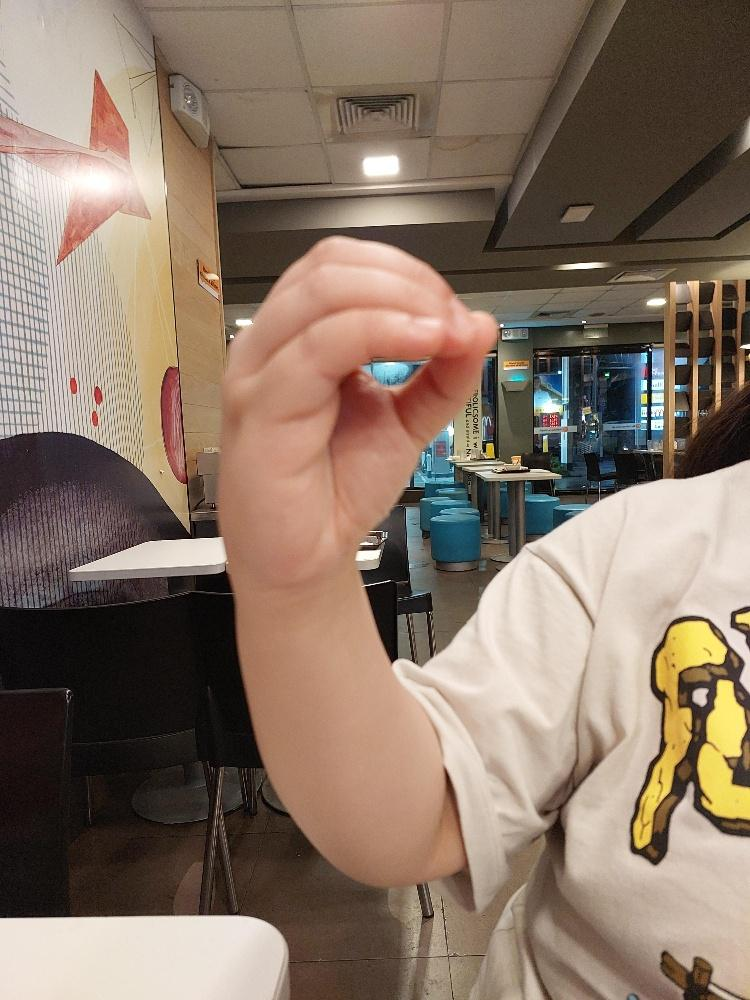o: (215, 231, 498, 586)
